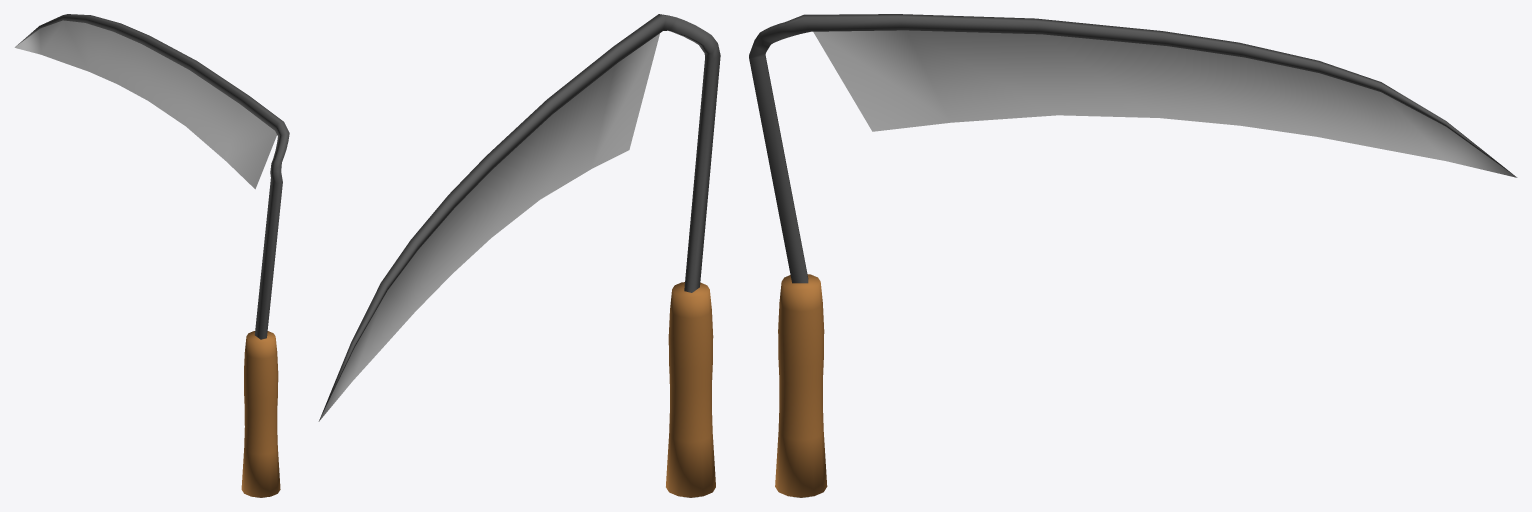
Rendered from Scythe.fbx.
The picture shows the model from 3 angles, left to right: view 1: azimuth 30°, elevation 25°; view 2: azimuth 150°, elevation 25°; view 3: azimuth 270°, elevation 25°; orthographic projection. The views are drawn at different scales.
Visible parts, largest first — view 1: Cylinder; view 2: Cylinder; view 3: Cylinder.
Boxes of the visible parts, left/top/right/bottom form: Cylinder: left=14, top=14, right=289, bottom=497; Cylinder: left=318, top=14, right=720, bottom=497; Cylinder: left=749, top=14, right=1517, bottom=497.
Size of the model in its own units: 1.43 by 17.44 by 12.25.
